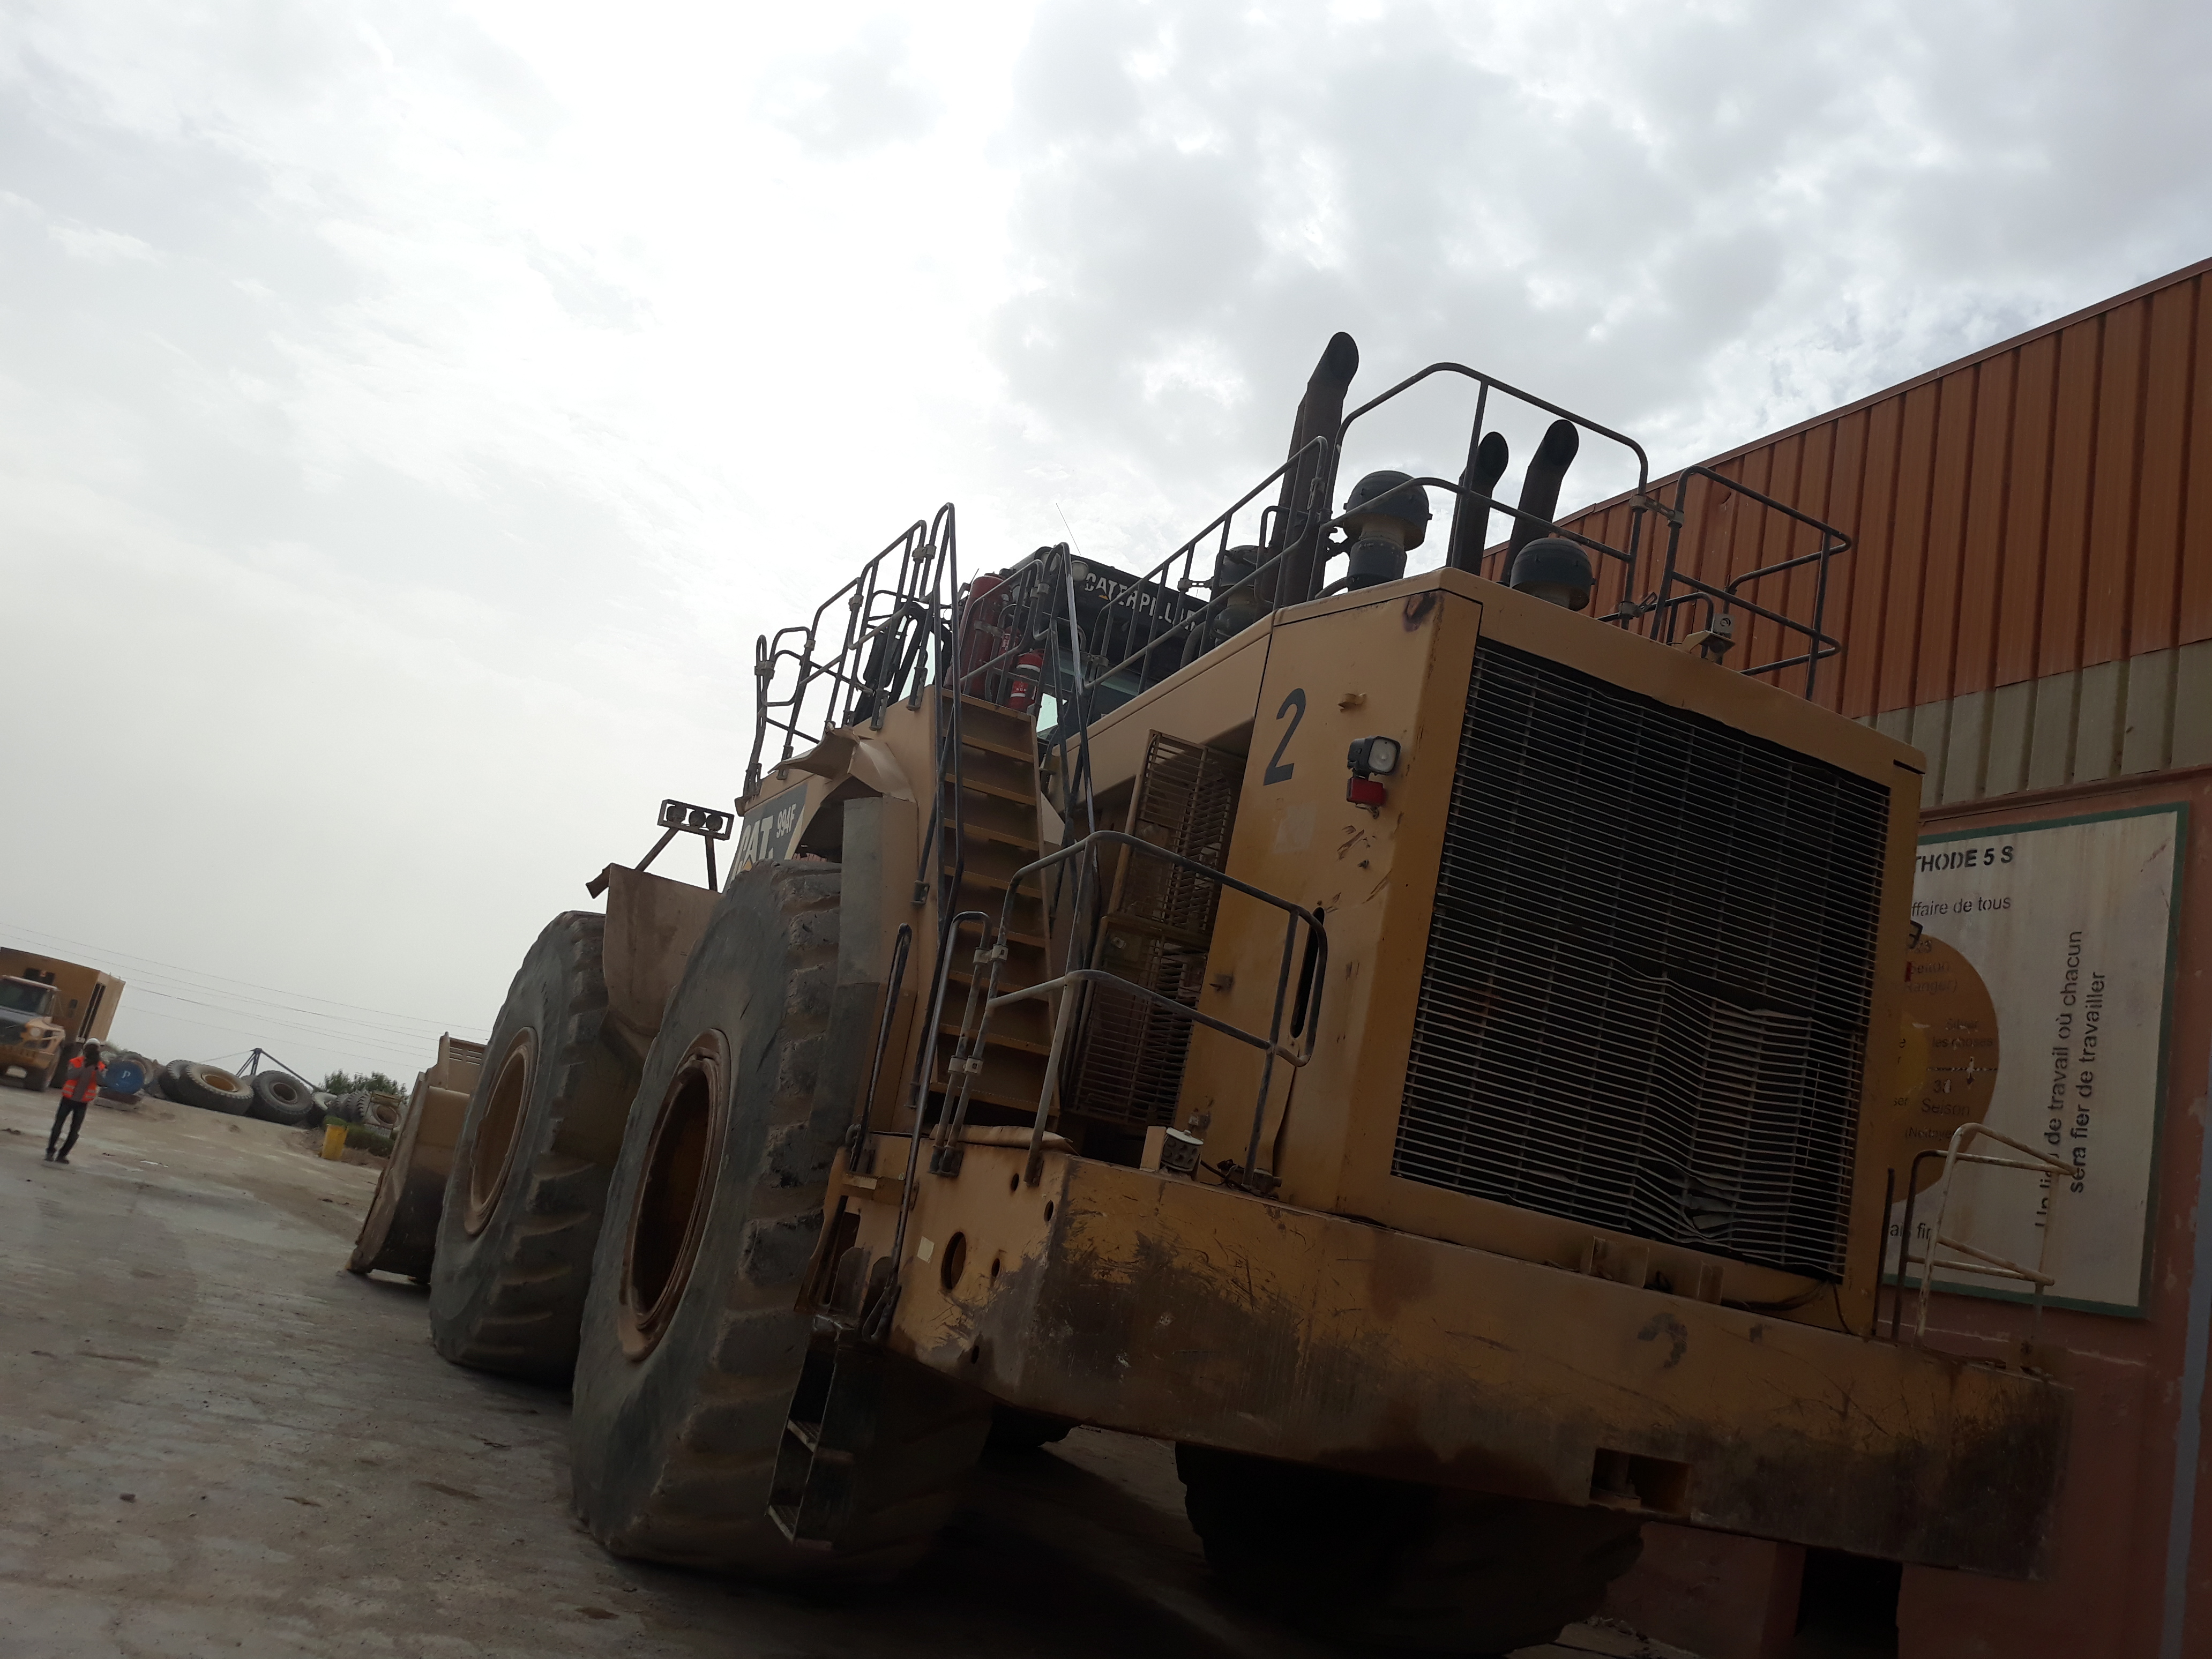chargeuse: (337, 367, 2083, 1659)
person: (38, 1029, 126, 1179)
